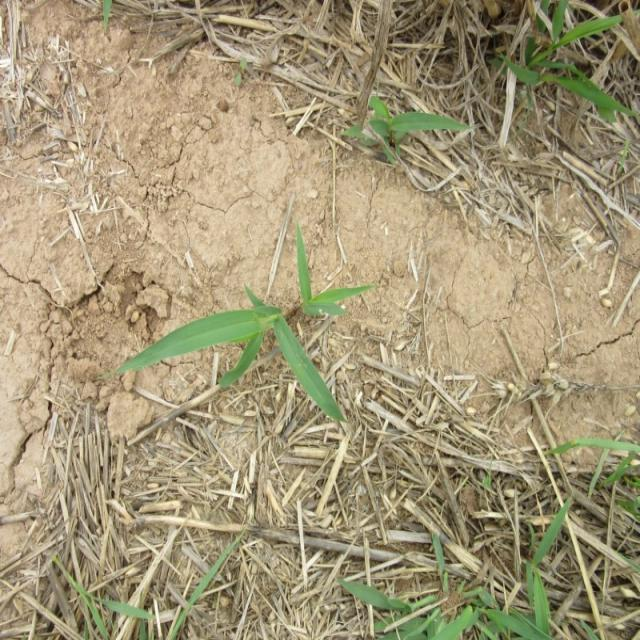bg: (116, 220, 381, 426)
